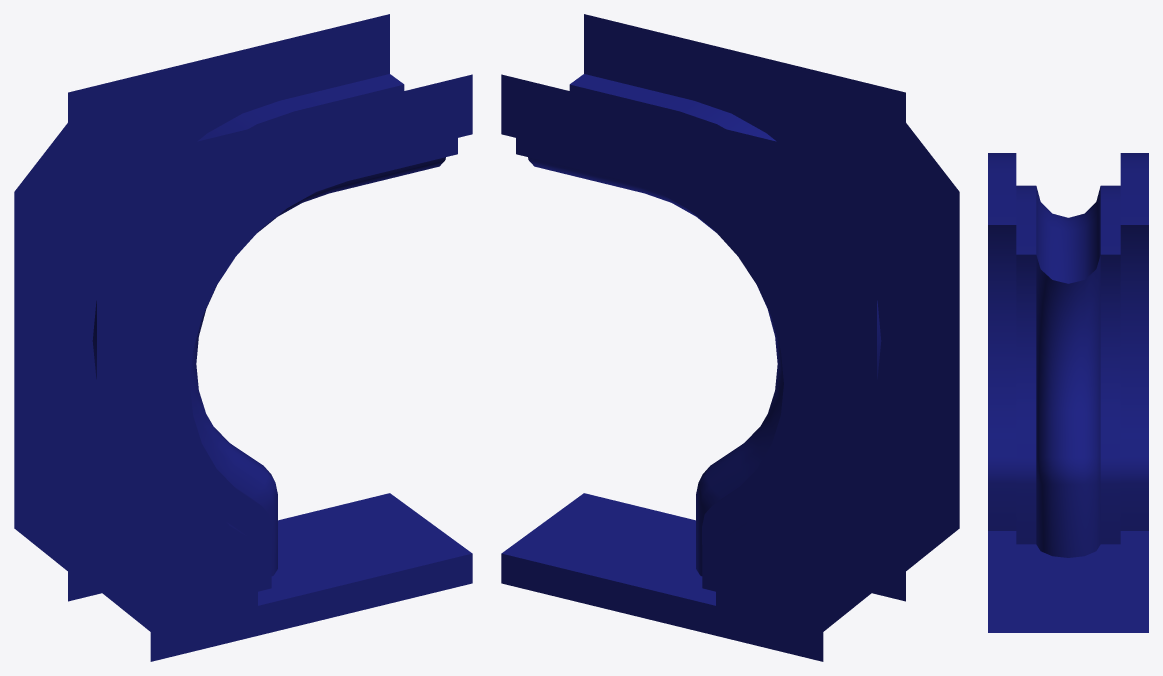
The model's file is CLow_Wall_A_Pereborka.FBX.
3 views of the same model, side by side, from view 1: azimuth 30°, elevation 25°; view 2: azimuth 150°, elevation 25°; view 3: azimuth 270°, elevation 25° (orthographic). The views are drawn at different scales.
Parts seen in each view (by area): view 1: CLow_Wall_A_Pereborka; view 2: CLow_Wall_A_Pereborka; view 3: CLow_Wall_A_Pereborka.
Part boxes in pixels (x1=…): CLow_Wall_A_Pereborka: x1=14, y1=14, x2=472, y2=661; CLow_Wall_A_Pereborka: x1=501, y1=14, x2=959, y2=661; CLow_Wall_A_Pereborka: x1=988, y1=153, x2=1148, y2=632.
Bounding box in the file's own units: 262 × 340 × 100.
